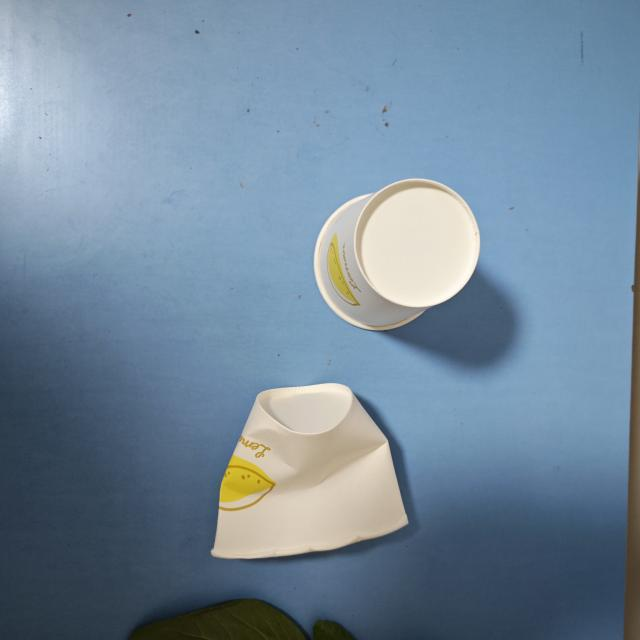-Recyclables - paper cup-: (210, 384, 412, 560), (312, 179, 479, 333)
